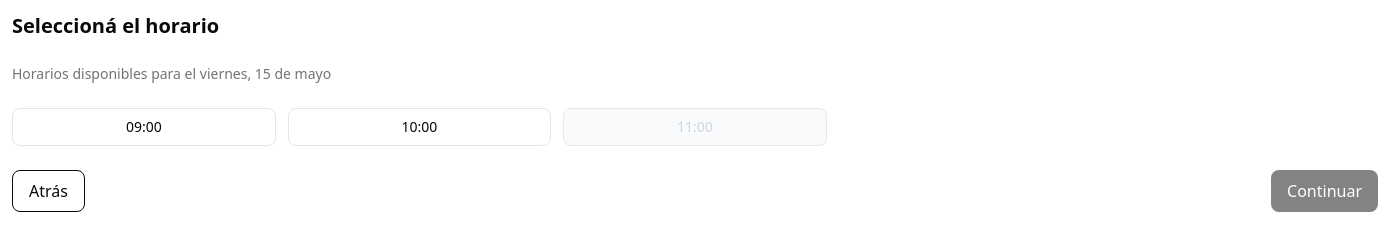
Test: BookingWizard Integration › Step 4: Slot Selection › renders available slots and enables continue after selection
Check: the radio button "10:00" is shown, box x1=288 y1=108 x2=551 y2=146
Check: the button "Continuar" is disabled, box x1=1271 y1=170 x2=1378 y2=212
Click the radio button "09:00": (144,127) x1=12 y1=108 x2=276 y2=146
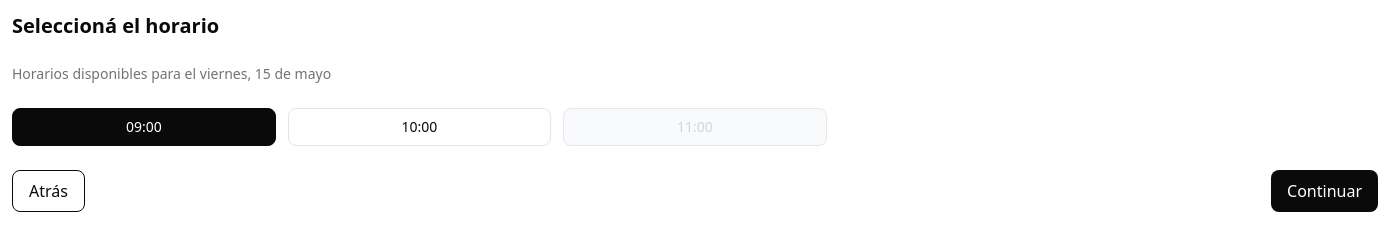
Check: the button "Continuar" is enabled, box x1=1271 y1=170 x2=1378 y2=212
